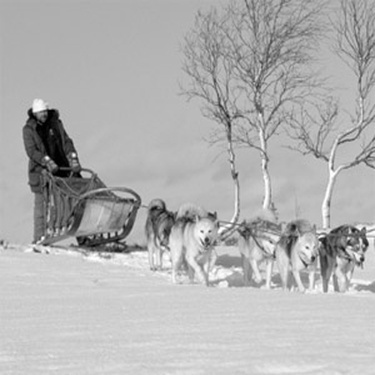dog: (147, 201, 220, 299), (292, 210, 370, 300), (244, 221, 324, 294), (131, 189, 187, 279), (219, 219, 279, 294), (177, 198, 224, 239)
